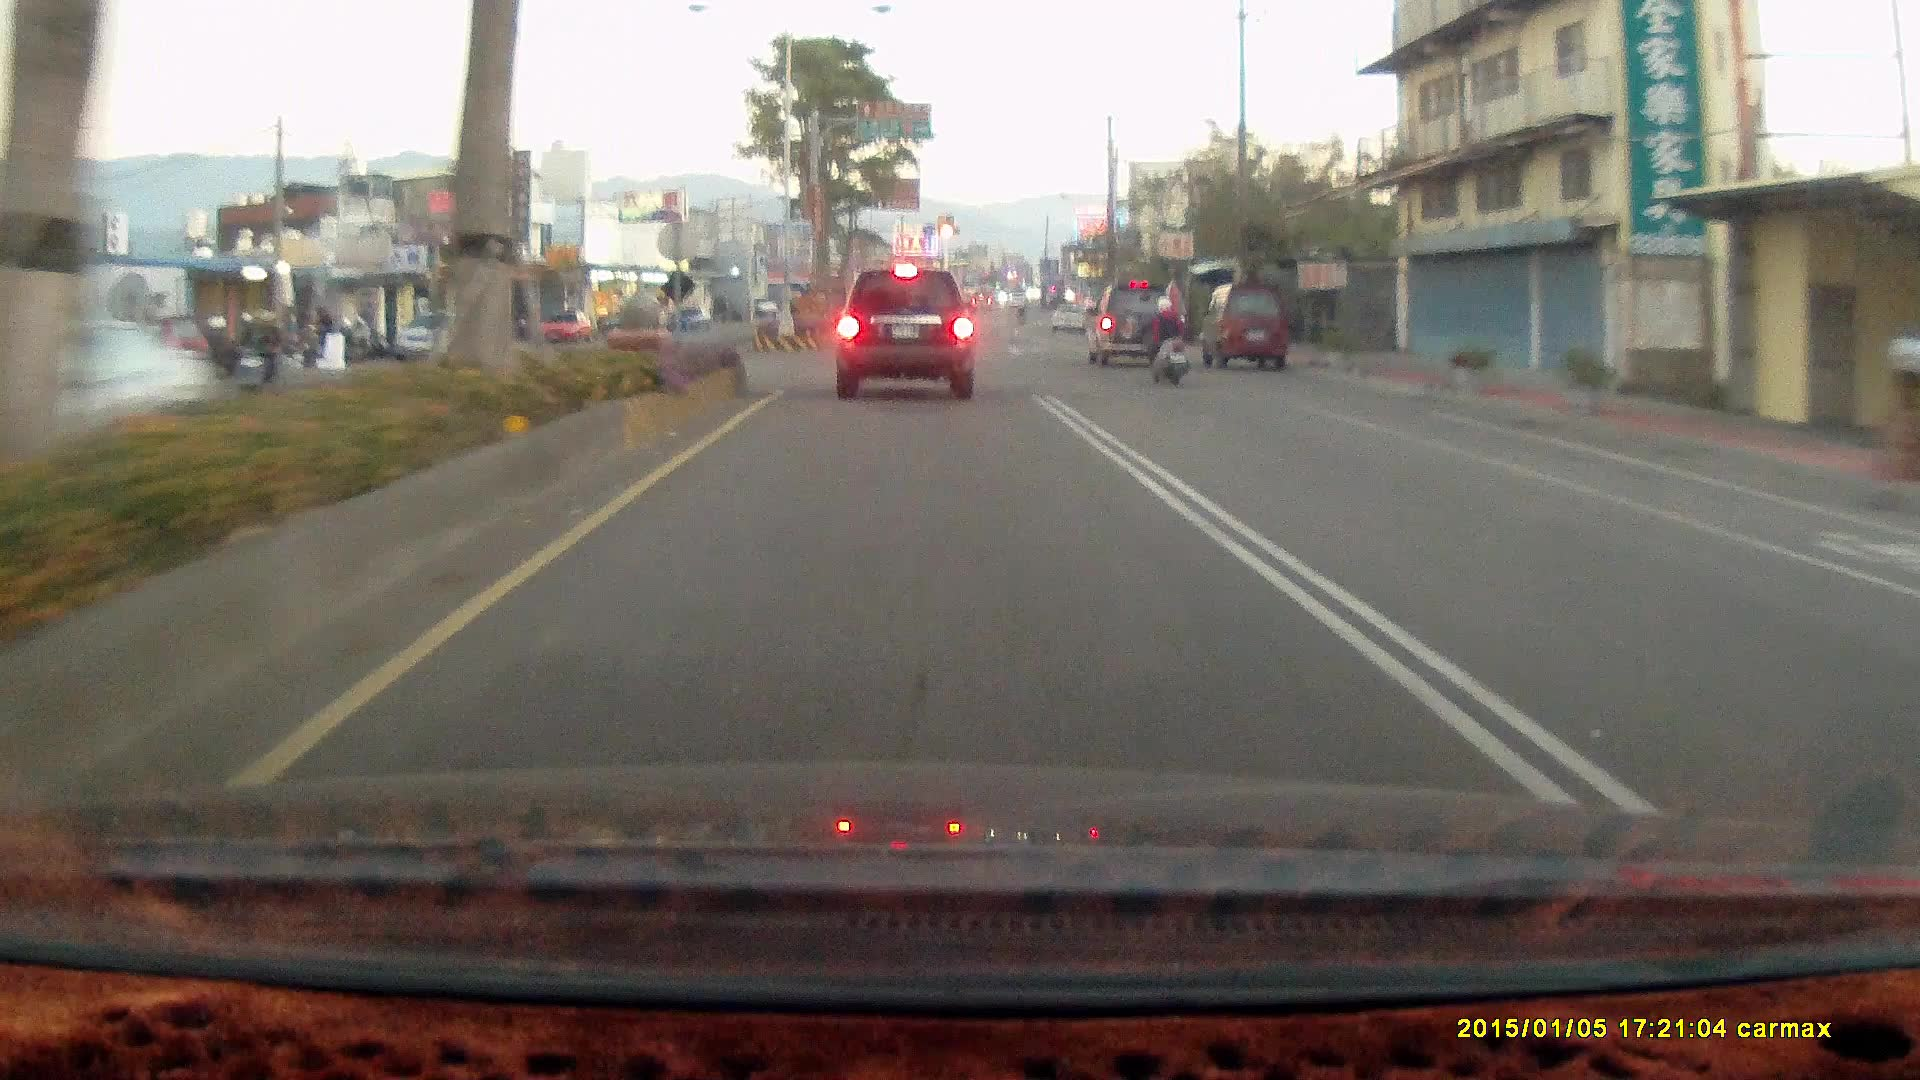rider: (1134, 291, 1196, 391), (226, 312, 283, 402), (1136, 292, 1187, 385)
vehicle: (831, 260, 986, 398), (834, 266, 972, 396), (1198, 282, 1289, 379), (1089, 281, 1186, 370), (1083, 280, 1174, 365), (1199, 282, 1286, 367), (388, 308, 478, 361), (391, 310, 478, 360)
